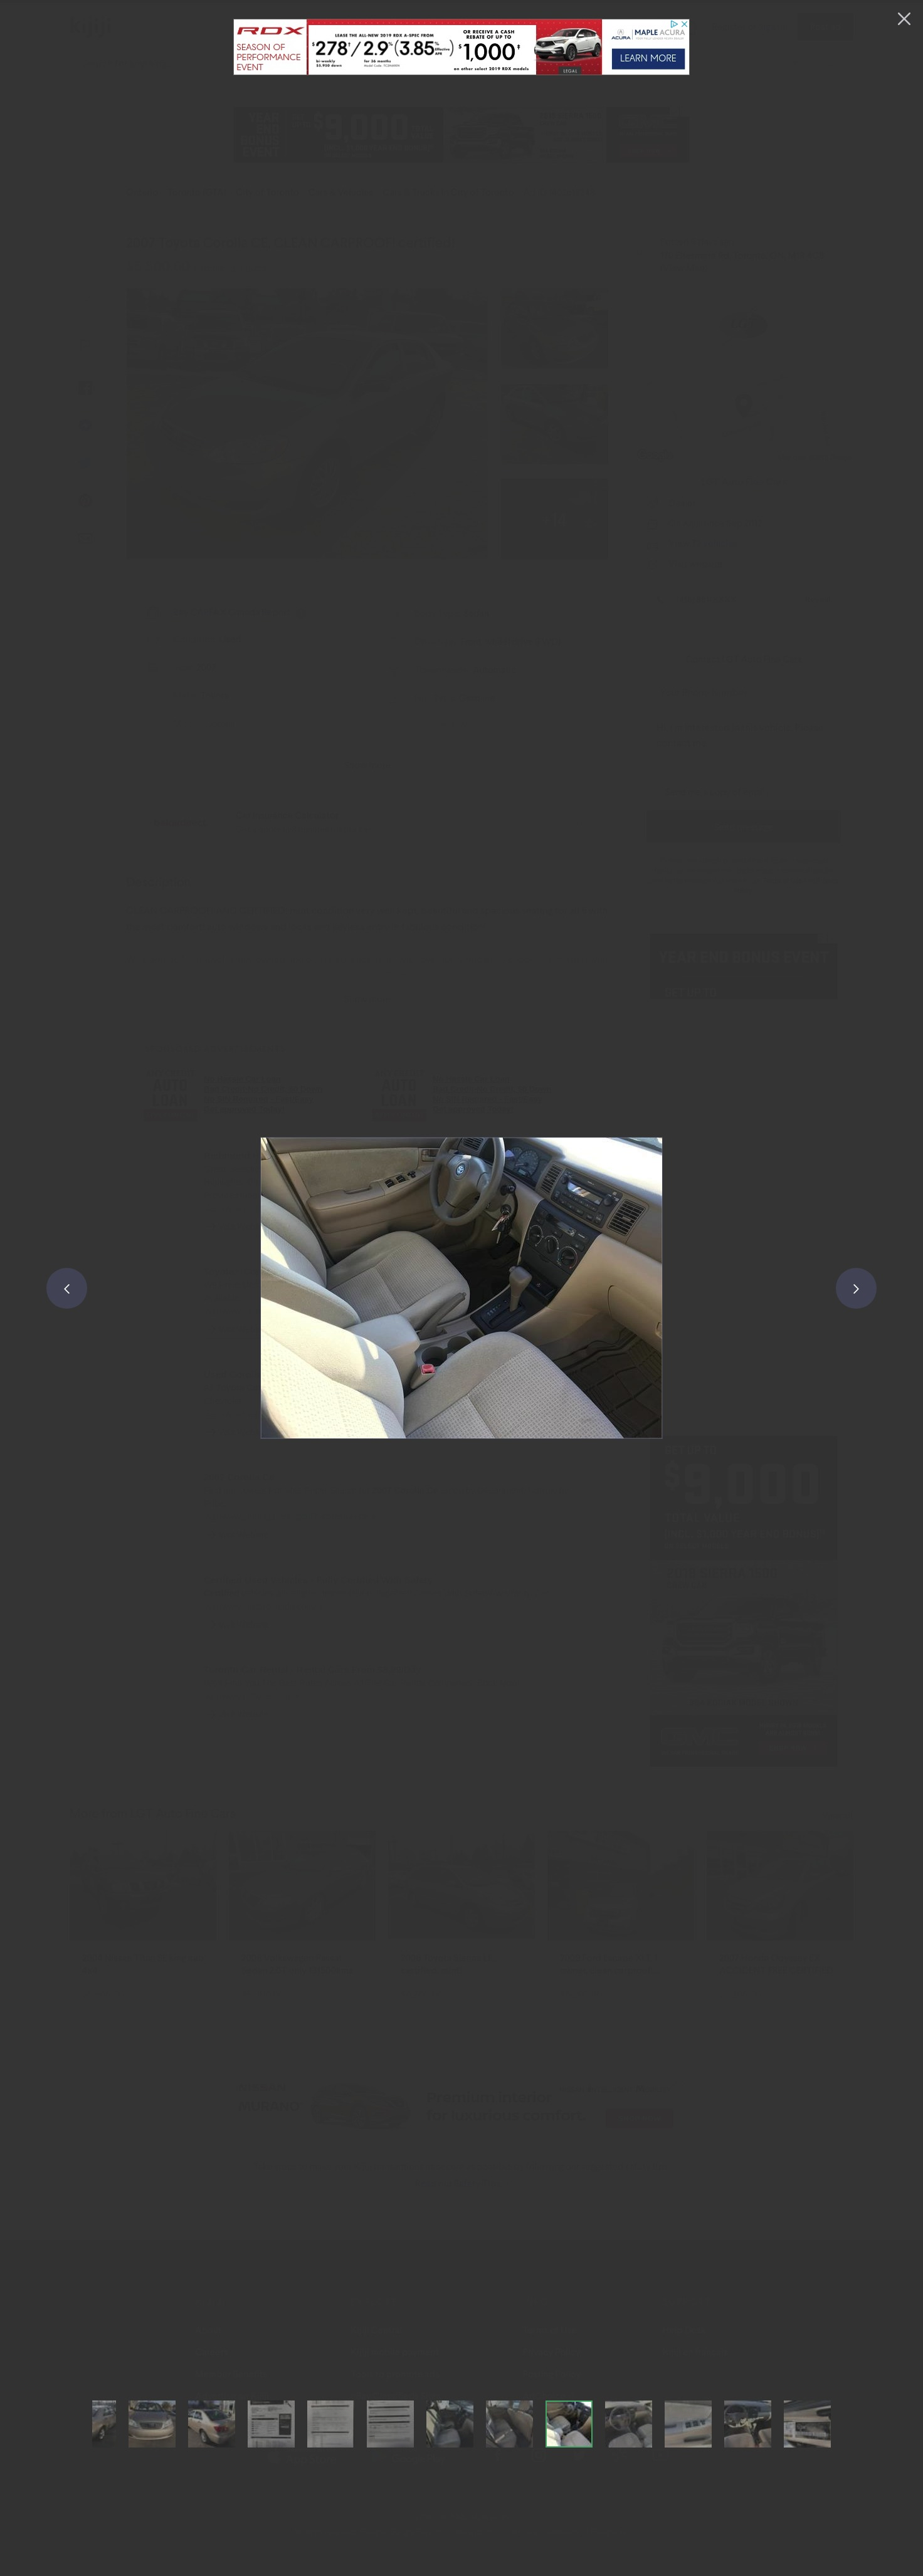car: (834, 1267, 879, 1311)
